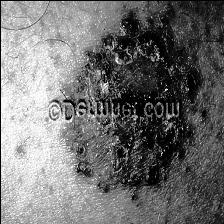Non-Cancerous Skin Condition: (61, 23, 202, 188)
